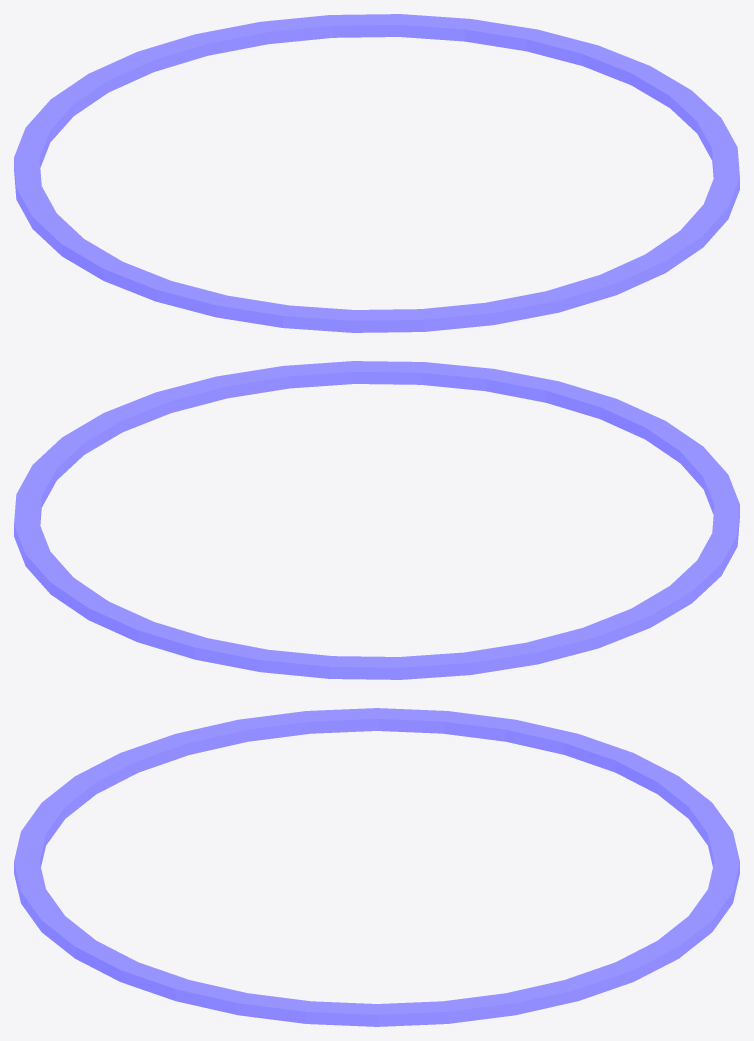
The model's file is ring1.fbx.
3 renders of one model, top to bottom at view 1: azimuth 30°, elevation 25°; view 2: azimuth 150°, elevation 25°; view 3: azimuth 270°, elevation 25°, orthographic.
Visible parts, largest first — view 1: Circle.001; view 2: Circle.001; view 3: Circle.001.
Part boxes in pixels (<box>): Circle.001: <box>14,14,739,332</box>; Circle.001: <box>14,361,739,679</box>; Circle.001: <box>14,708,739,1026</box>.
Size of the model in its own units: 95.4 by 1.75 by 95.4.
